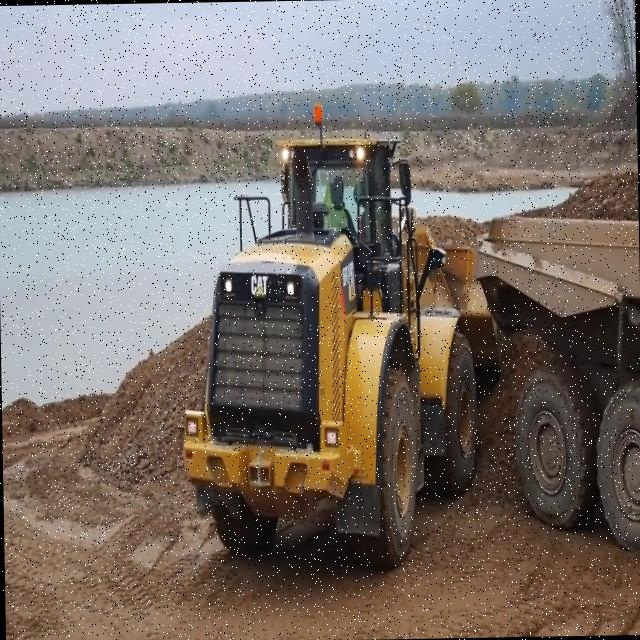Dump Truck: (471, 207, 640, 557)
Loader: (173, 95, 510, 571)
